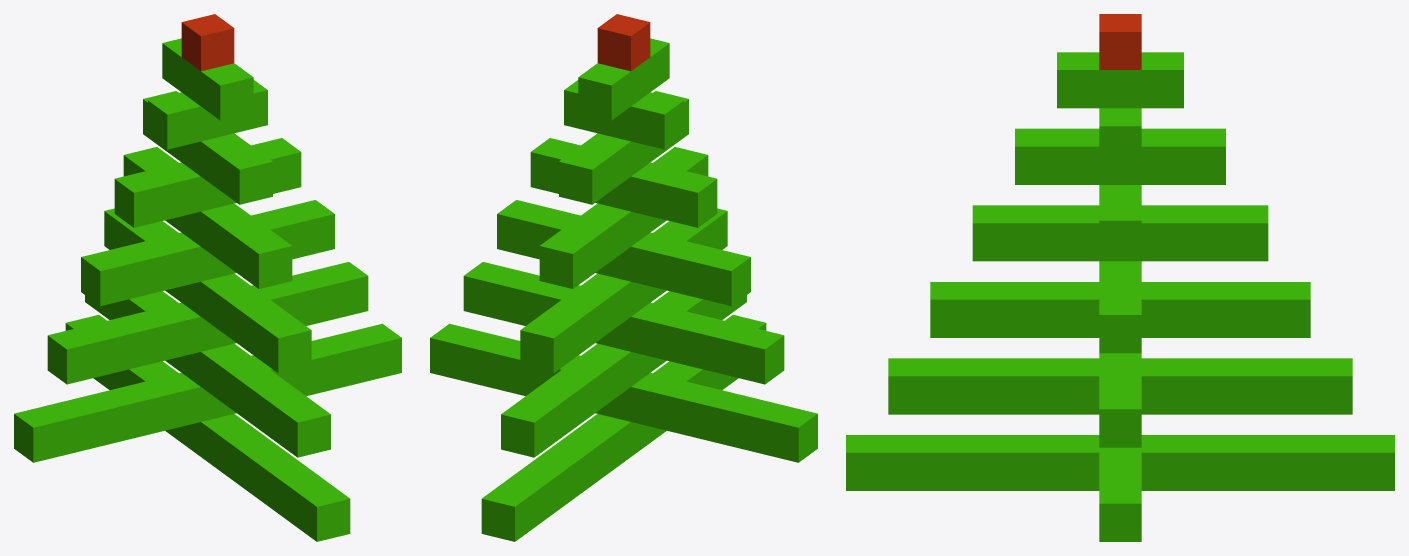
The picture shows the model from 3 angles, left to right: view 1: azimuth 30°, elevation 25°; view 2: azimuth 150°, elevation 25°; view 3: azimuth 270°, elevation 25°; orthographic projection. The views are drawn at different scales.
Visible parts, largest first — view 1: Null_10, Null_8, Null_11, Null_6, Null_9, Null_7, Null_5, Null_4, Null_3, Null_2, Null_1, Null; view 2: Null_10, Null_8, Null_11, Null_6, Null_9, Null_7, Null_5, Null_4, Null_3, Null_2, Null_1, Null; view 3: Null_11, Null_9, Null_7, Null_5, Null_3, Null_1, Null_8, Null_10, Null_6, Null_4, Null_2, Null.
Boxes of the visible parts, box(x1,y1,x2,y2) form: Null_10: box(14, 323, 401, 462); Null_8: box(47, 262, 368, 384); Null_11: box(65, 315, 350, 541); Null_6: box(81, 200, 334, 306); Null_9: box(85, 291, 330, 457); Null_7: box(104, 208, 311, 373); Null_5: box(123, 147, 292, 288); Null_4: box(114, 138, 301, 227); Null_3: box(143, 91, 272, 204); Null_2: box(148, 80, 267, 149); Null_1: box(162, 38, 253, 120); Null: box(181, 14, 234, 71); Null_10: box(430, 323, 817, 462); Null_8: box(463, 262, 784, 384); Null_11: box(481, 315, 766, 541); Null_6: box(497, 200, 750, 306); Null_9: box(501, 291, 746, 457); Null_7: box(520, 208, 727, 373); Null_5: box(539, 147, 708, 288); Null_4: box(530, 138, 717, 227); Null_3: box(559, 91, 688, 204); Null_2: box(564, 80, 683, 149); Null_1: box(578, 38, 669, 120); Null: box(597, 14, 650, 71); Null_11: box(846, 435, 1394, 490); Null_9: box(888, 358, 1352, 414); Null_7: box(930, 282, 1310, 337); Null_5: box(972, 205, 1268, 261); Null_3: box(1015, 128, 1225, 184); Null_1: box(1057, 52, 1183, 108); Null_8: box(1099, 353, 1141, 447); Null_10: box(1099, 447, 1141, 541); Null_6: box(1099, 261, 1141, 353); Null_4: box(1099, 185, 1141, 258); Null_2: box(1099, 108, 1141, 164); Null: box(1099, 14, 1141, 69).
Size of the model in its own units: 880 by 960 by 1040.
